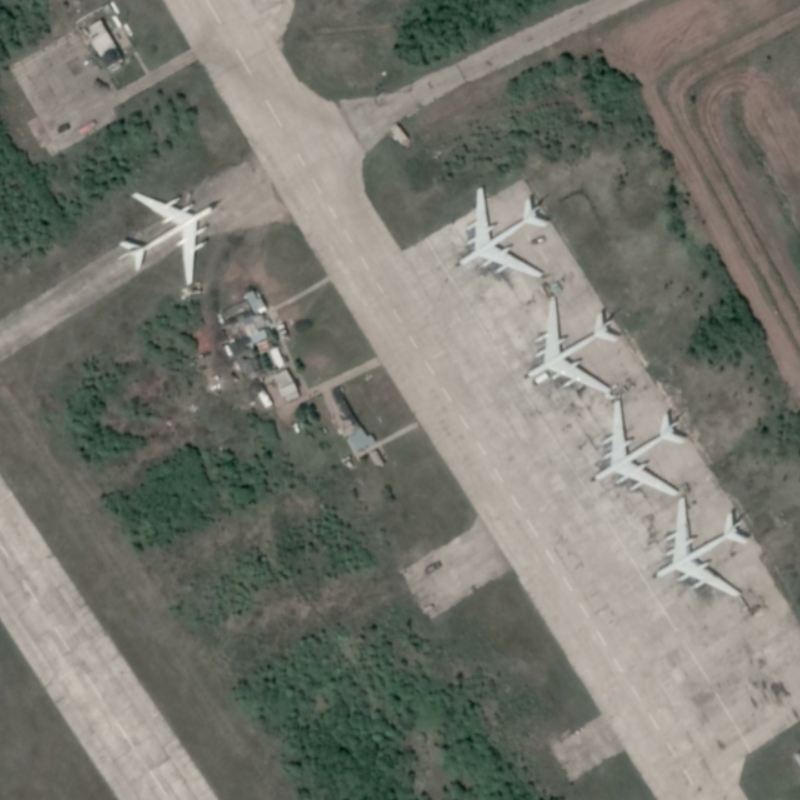A17: (518, 290, 625, 395), (584, 397, 696, 497), (648, 494, 753, 600), (449, 183, 558, 283), (114, 189, 223, 287)
